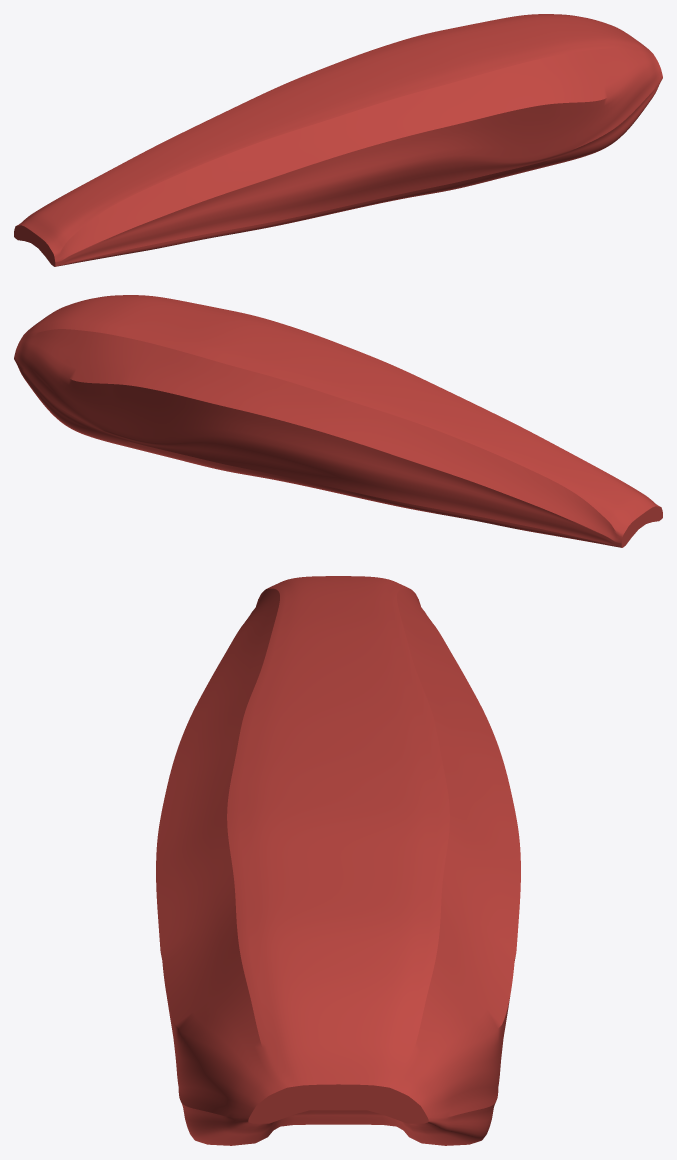
Rendered from bobber_4.glb.
3 views of the same model, one above another, from view 1: azimuth 30°, elevation 25°; view 2: azimuth 150°, elevation 25°; view 3: azimuth 270°, elevation 25° (orthographic). The views are drawn at different scales.
Visible parts, largest first — view 1: bobber_4; view 2: bobber_4; view 3: bobber_4.
Boxes of the visible parts, x1,y1,x2,y2 form: bobber_4: (14,14,662,266); bobber_4: (14,295,662,547); bobber_4: (156,576,520,1145).
Size of the model in its own units: 1.06 by 0.1832 by 0.2778.
